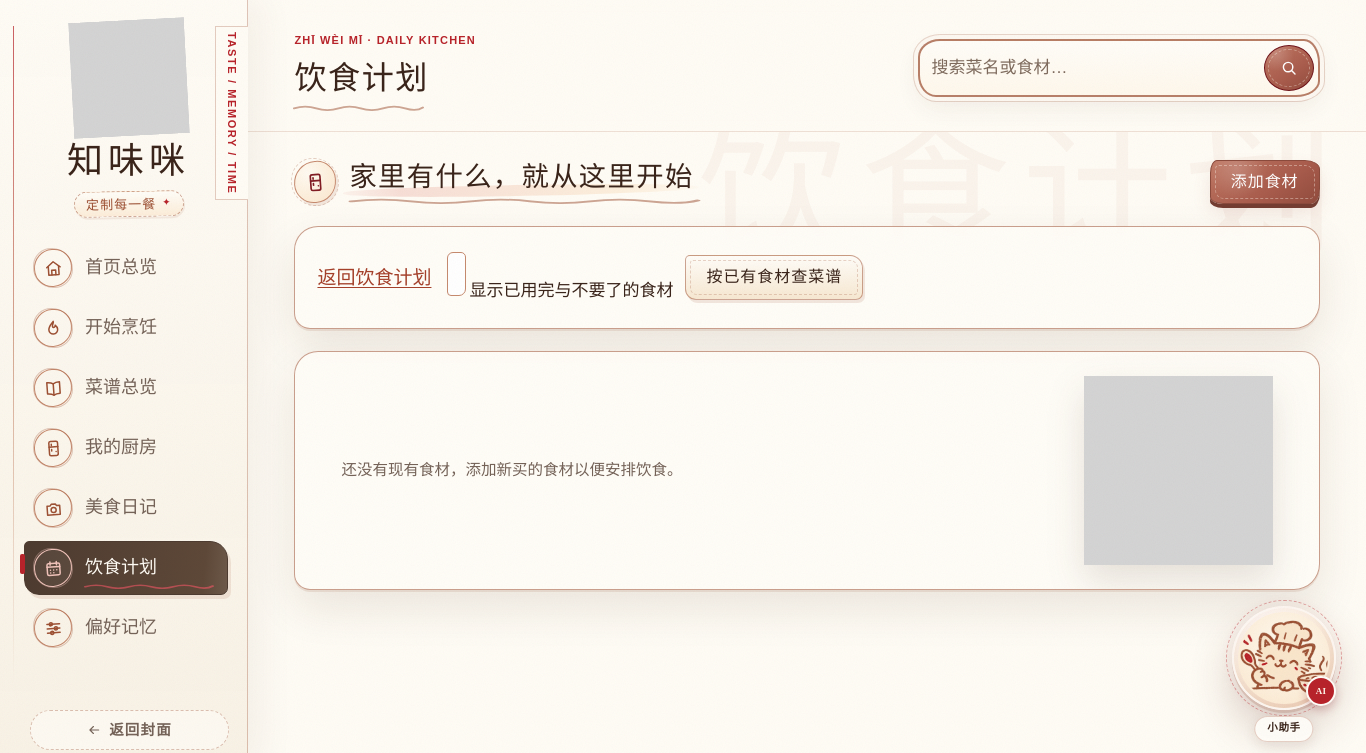
Test case: 阶段7界面：家庭食材维护，默认过滤用完记录
This screenshot has width=1366, height=753.
Click the button "添加食材". click: click(1265, 182)
box: [1210,160,1320,204]
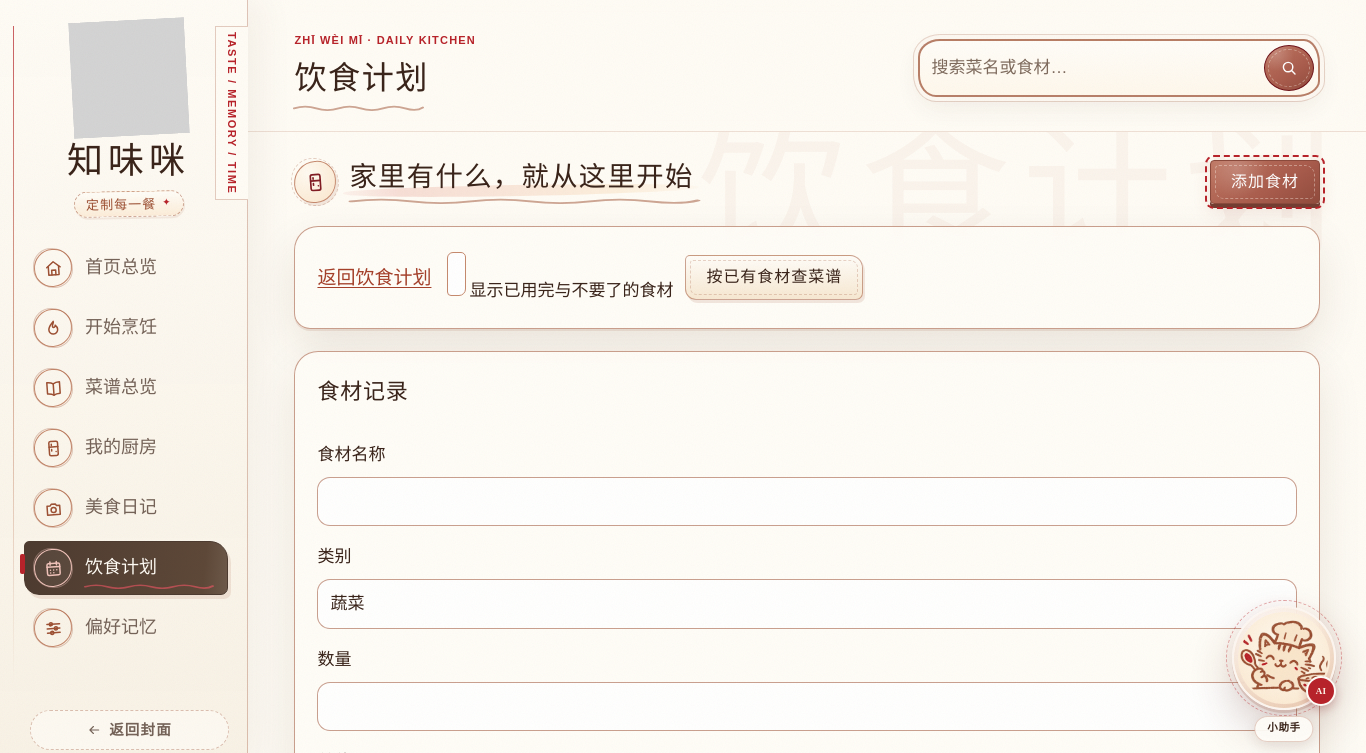
Type "番茄" into the field labelled "食材名称". click: (807, 502)
box: [317,477,1296,526]
(page scrolled)
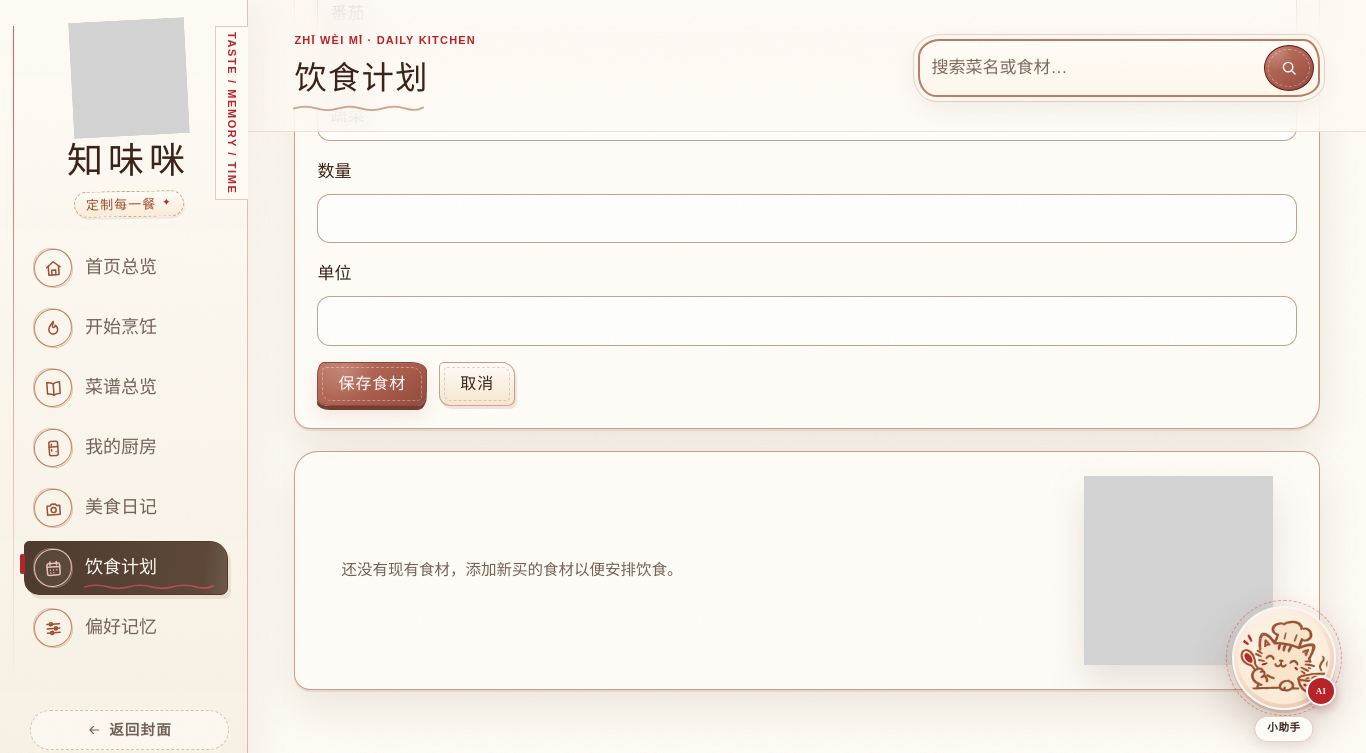
Click the button "保存食材". click: click(372, 384)
box: [317,362,427,406]
(page scrolled)
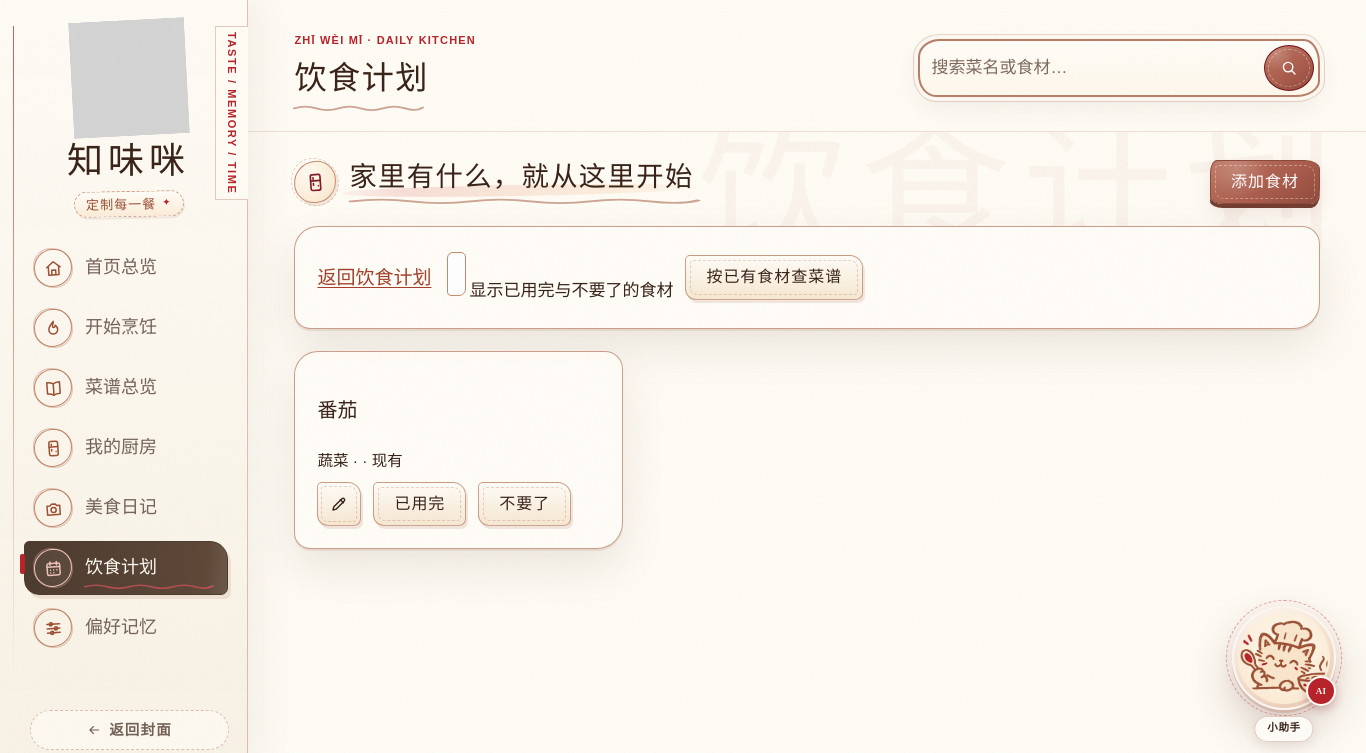
Now the heading "番茄" is shown, box [317,399,357,421]
Click the button "已用完". click: click(420, 504)
box: [373,482,466,526]
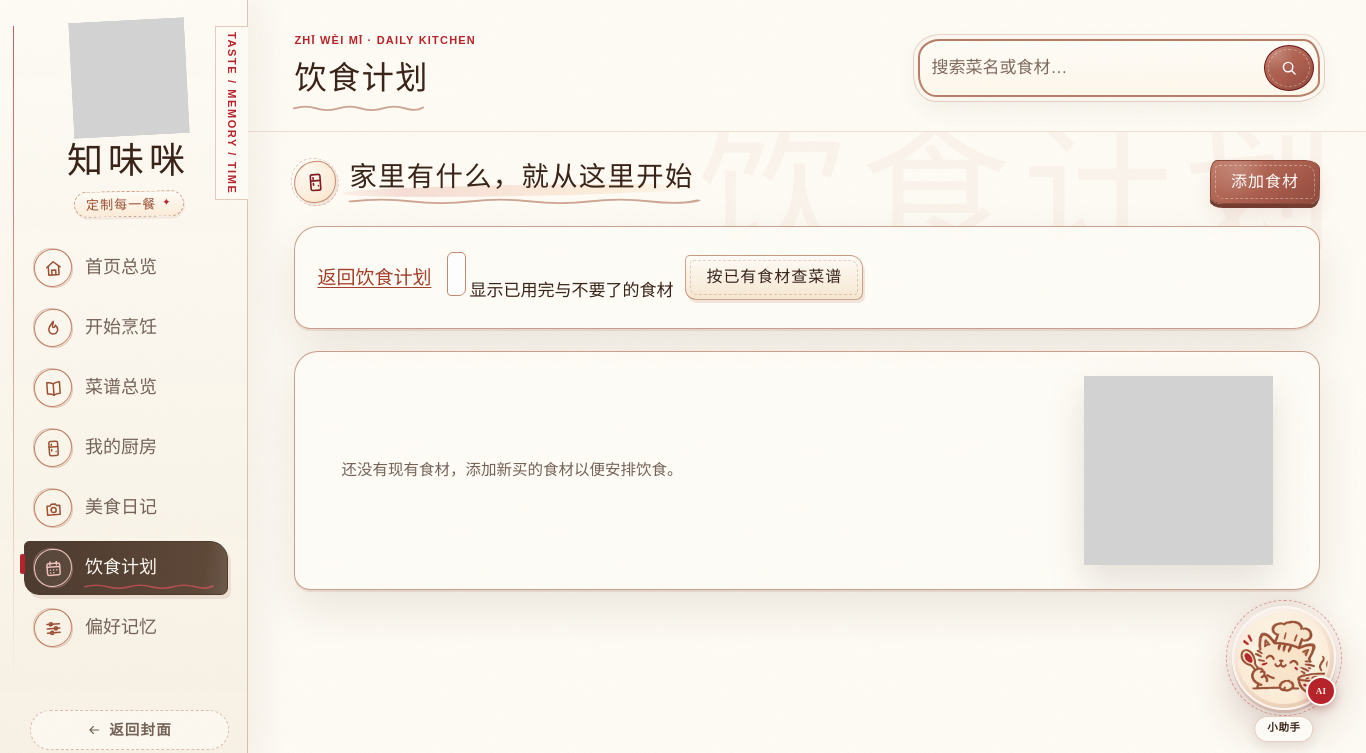
Now the text "还没有现有食材，添加新买的食材以便安排饮食。" is shown, box [341,462,682,478]
Click the checkbox. click: click(457, 274)
box: [448,252,466,296]
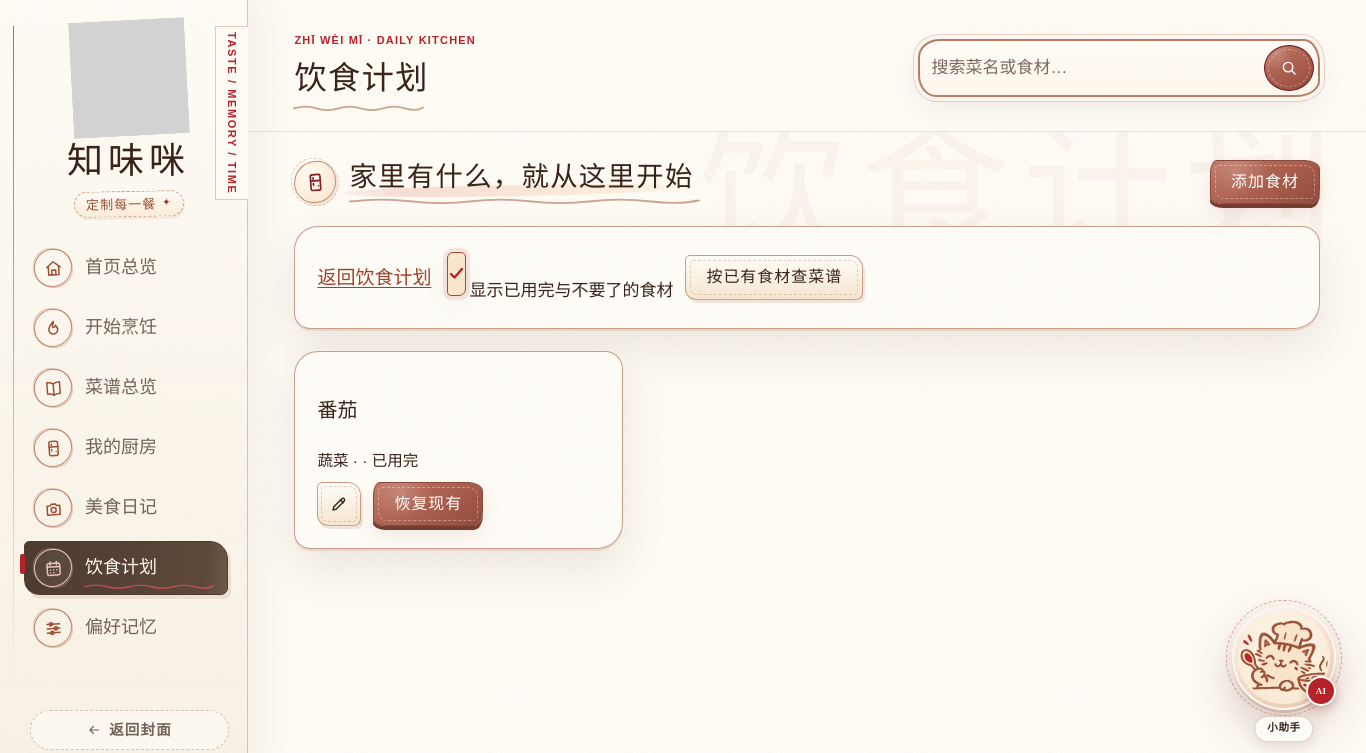
Now the heading "番茄" is shown, box [317,399,357,421]
